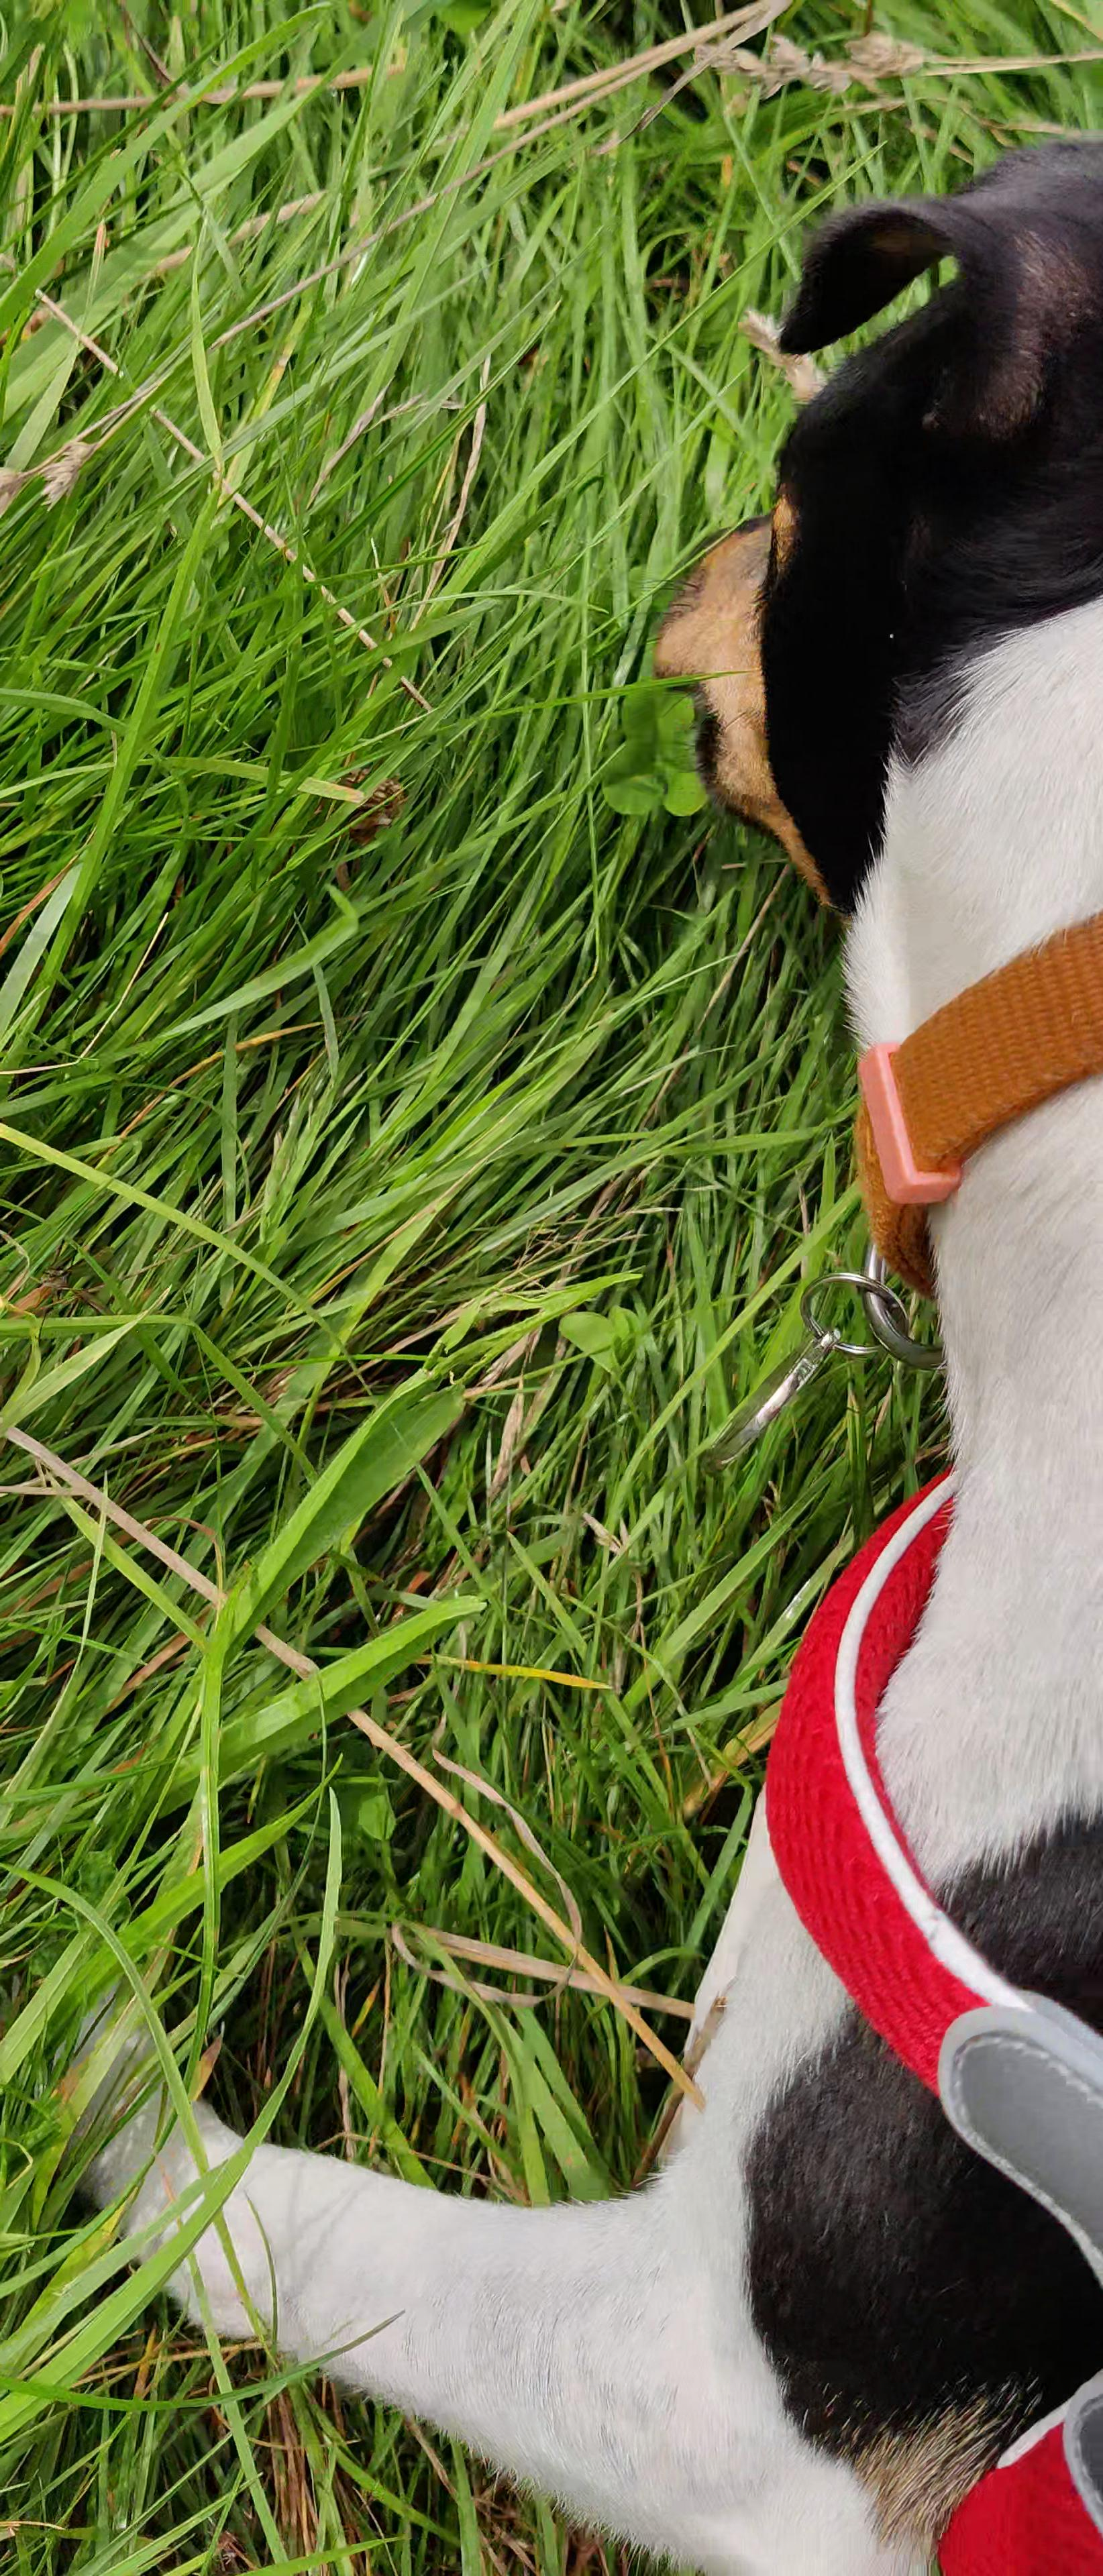Dog: (39, 113, 1103, 2576)
